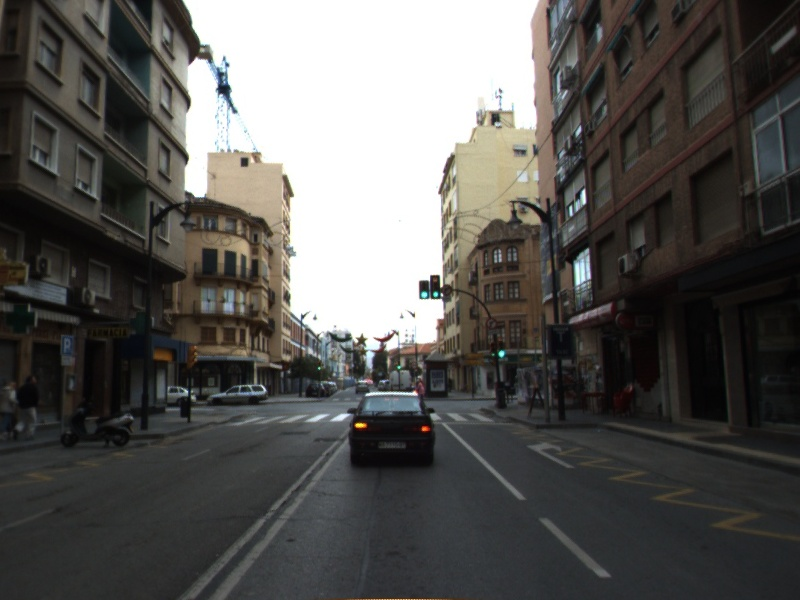RIGHT: (525, 439, 577, 470)
